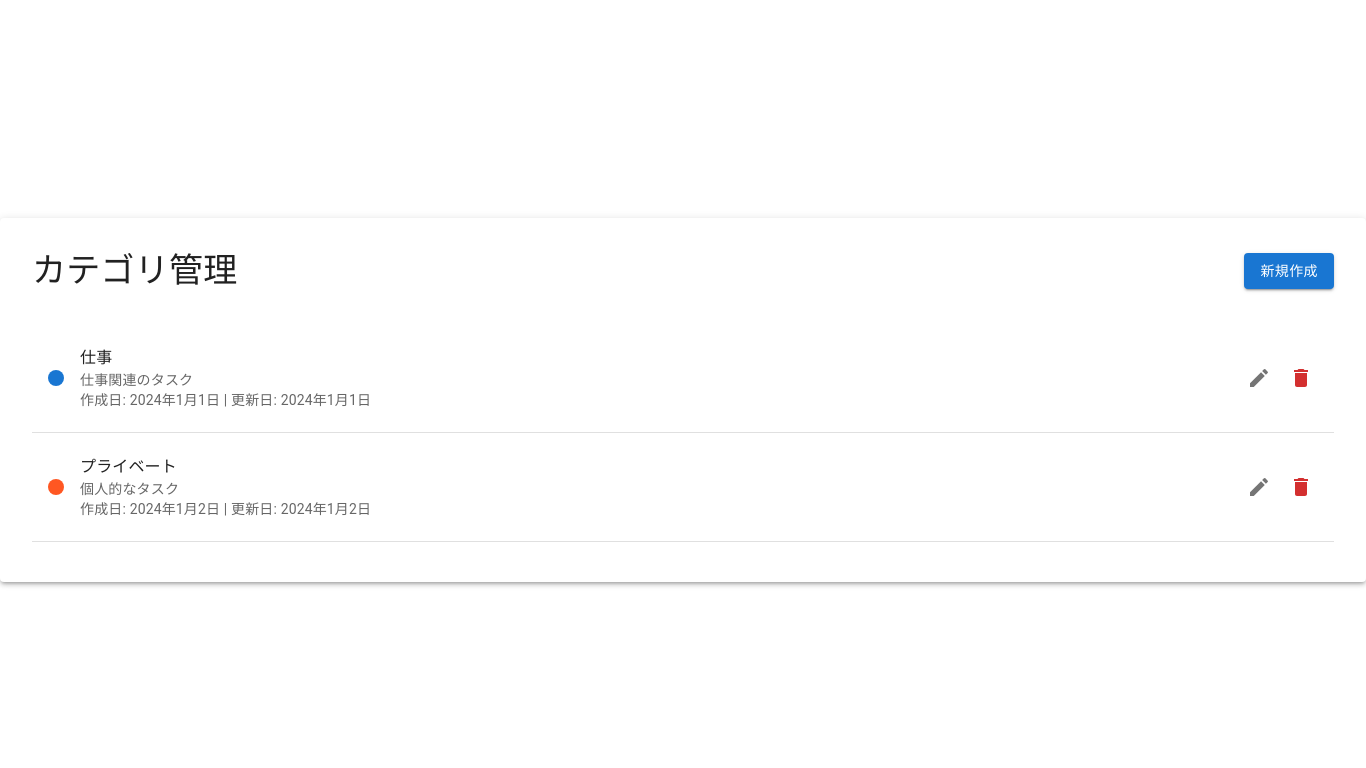
it: CategoriesPage › shows snackbar with delete error message when deleteCategory returns error
Click the button named "削除" in the row of "仕事関連のタスク".
click(1301, 378)  # box [1284,361,1318,395]
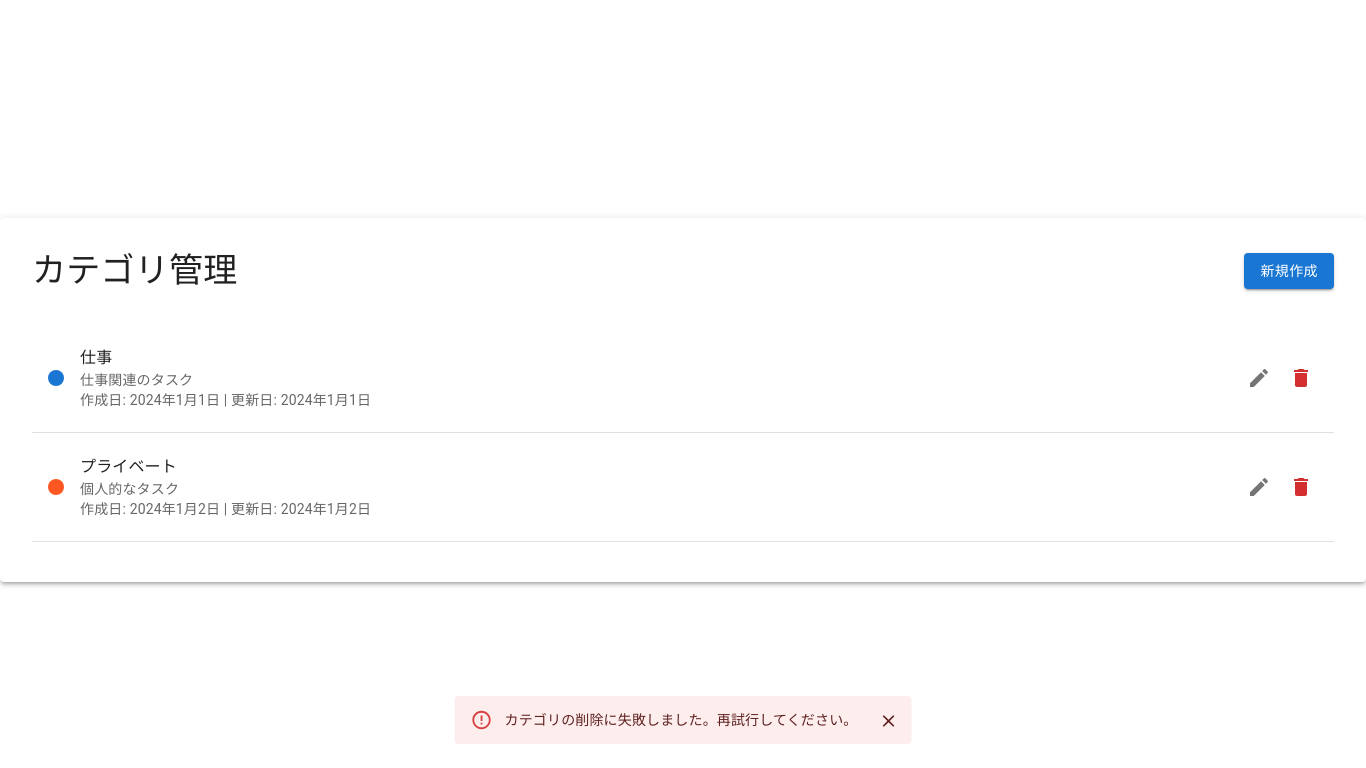
Result: the text "カテゴリの削除に失敗しました。再試行してください。" is shown at [504,712,857,728]
